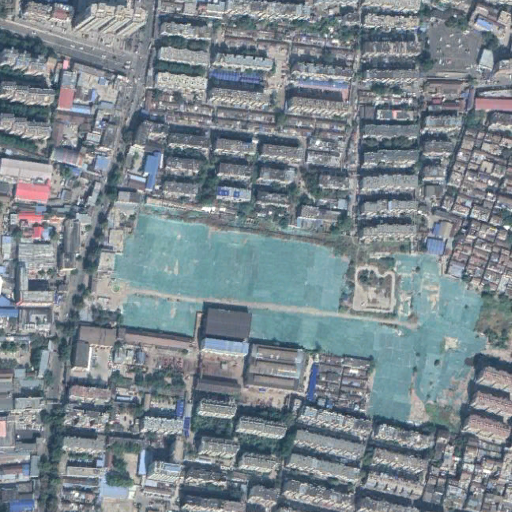cw: (115, 214, 487, 439)
